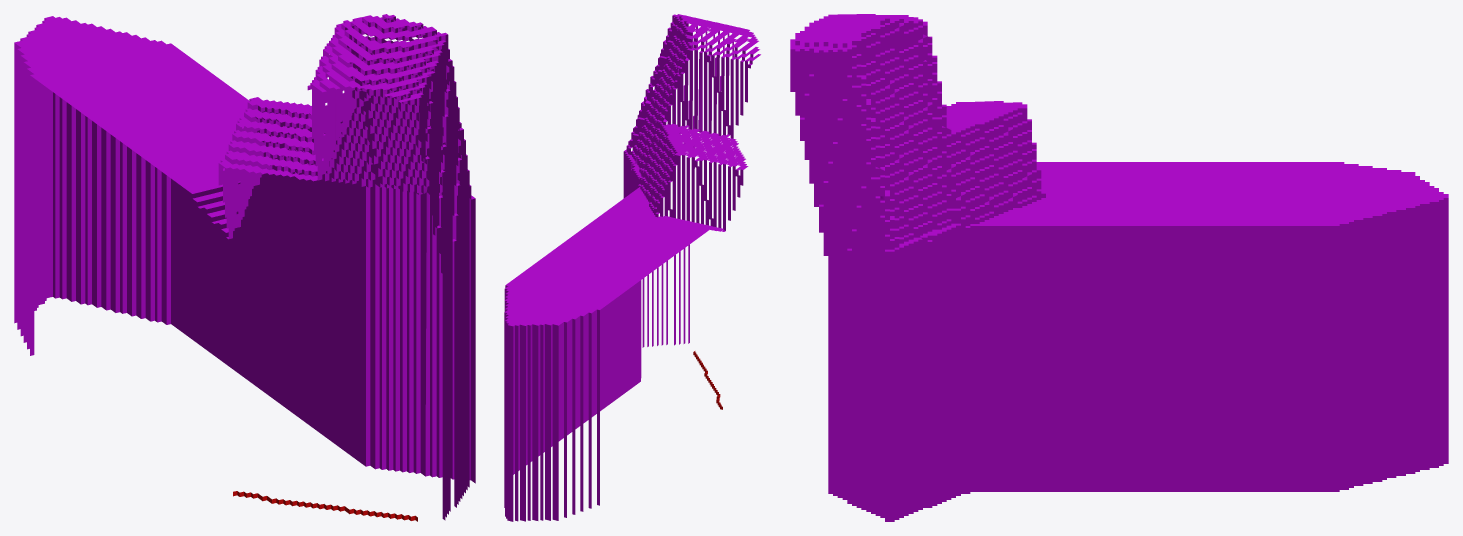
Rendered from cockpit_shield_weapon_select2-1.fbx.
The picture shows the model from 3 angles, left to right: view 1: azimuth 30°, elevation 25°; view 2: azimuth 150°, elevation 25°; view 3: azimuth 270°, elevation 25°; orthographic projection. The views are drawn at different scales.
Visible parts, largest first — view 1: geo1; view 2: geo1; view 3: geo1.
Part boxes in pixels (x1,y1,x2,y2): geo1: [14, 14, 475, 521]; geo1: [504, 14, 760, 521]; geo1: [790, 14, 1448, 521].
Bounding box in the file's own units: 67.59 × 150 × 192.
